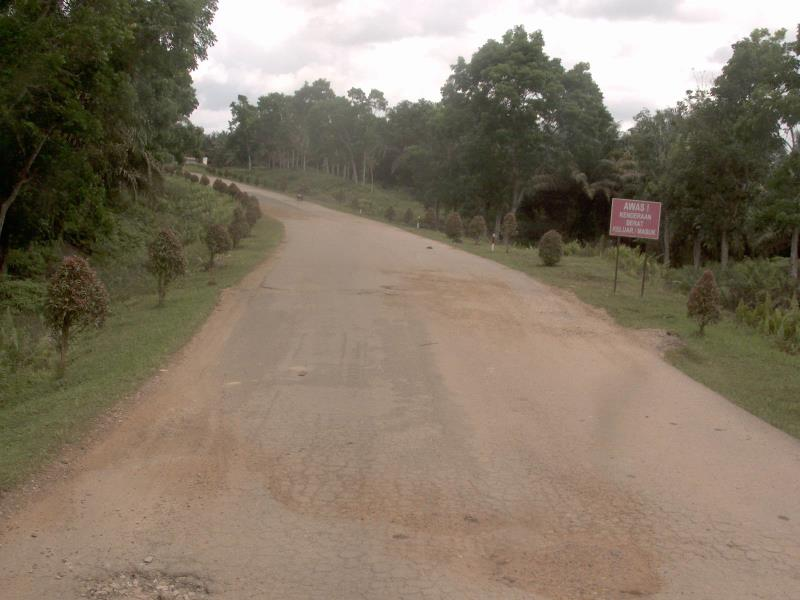ads_sign: (602, 190, 669, 246)
